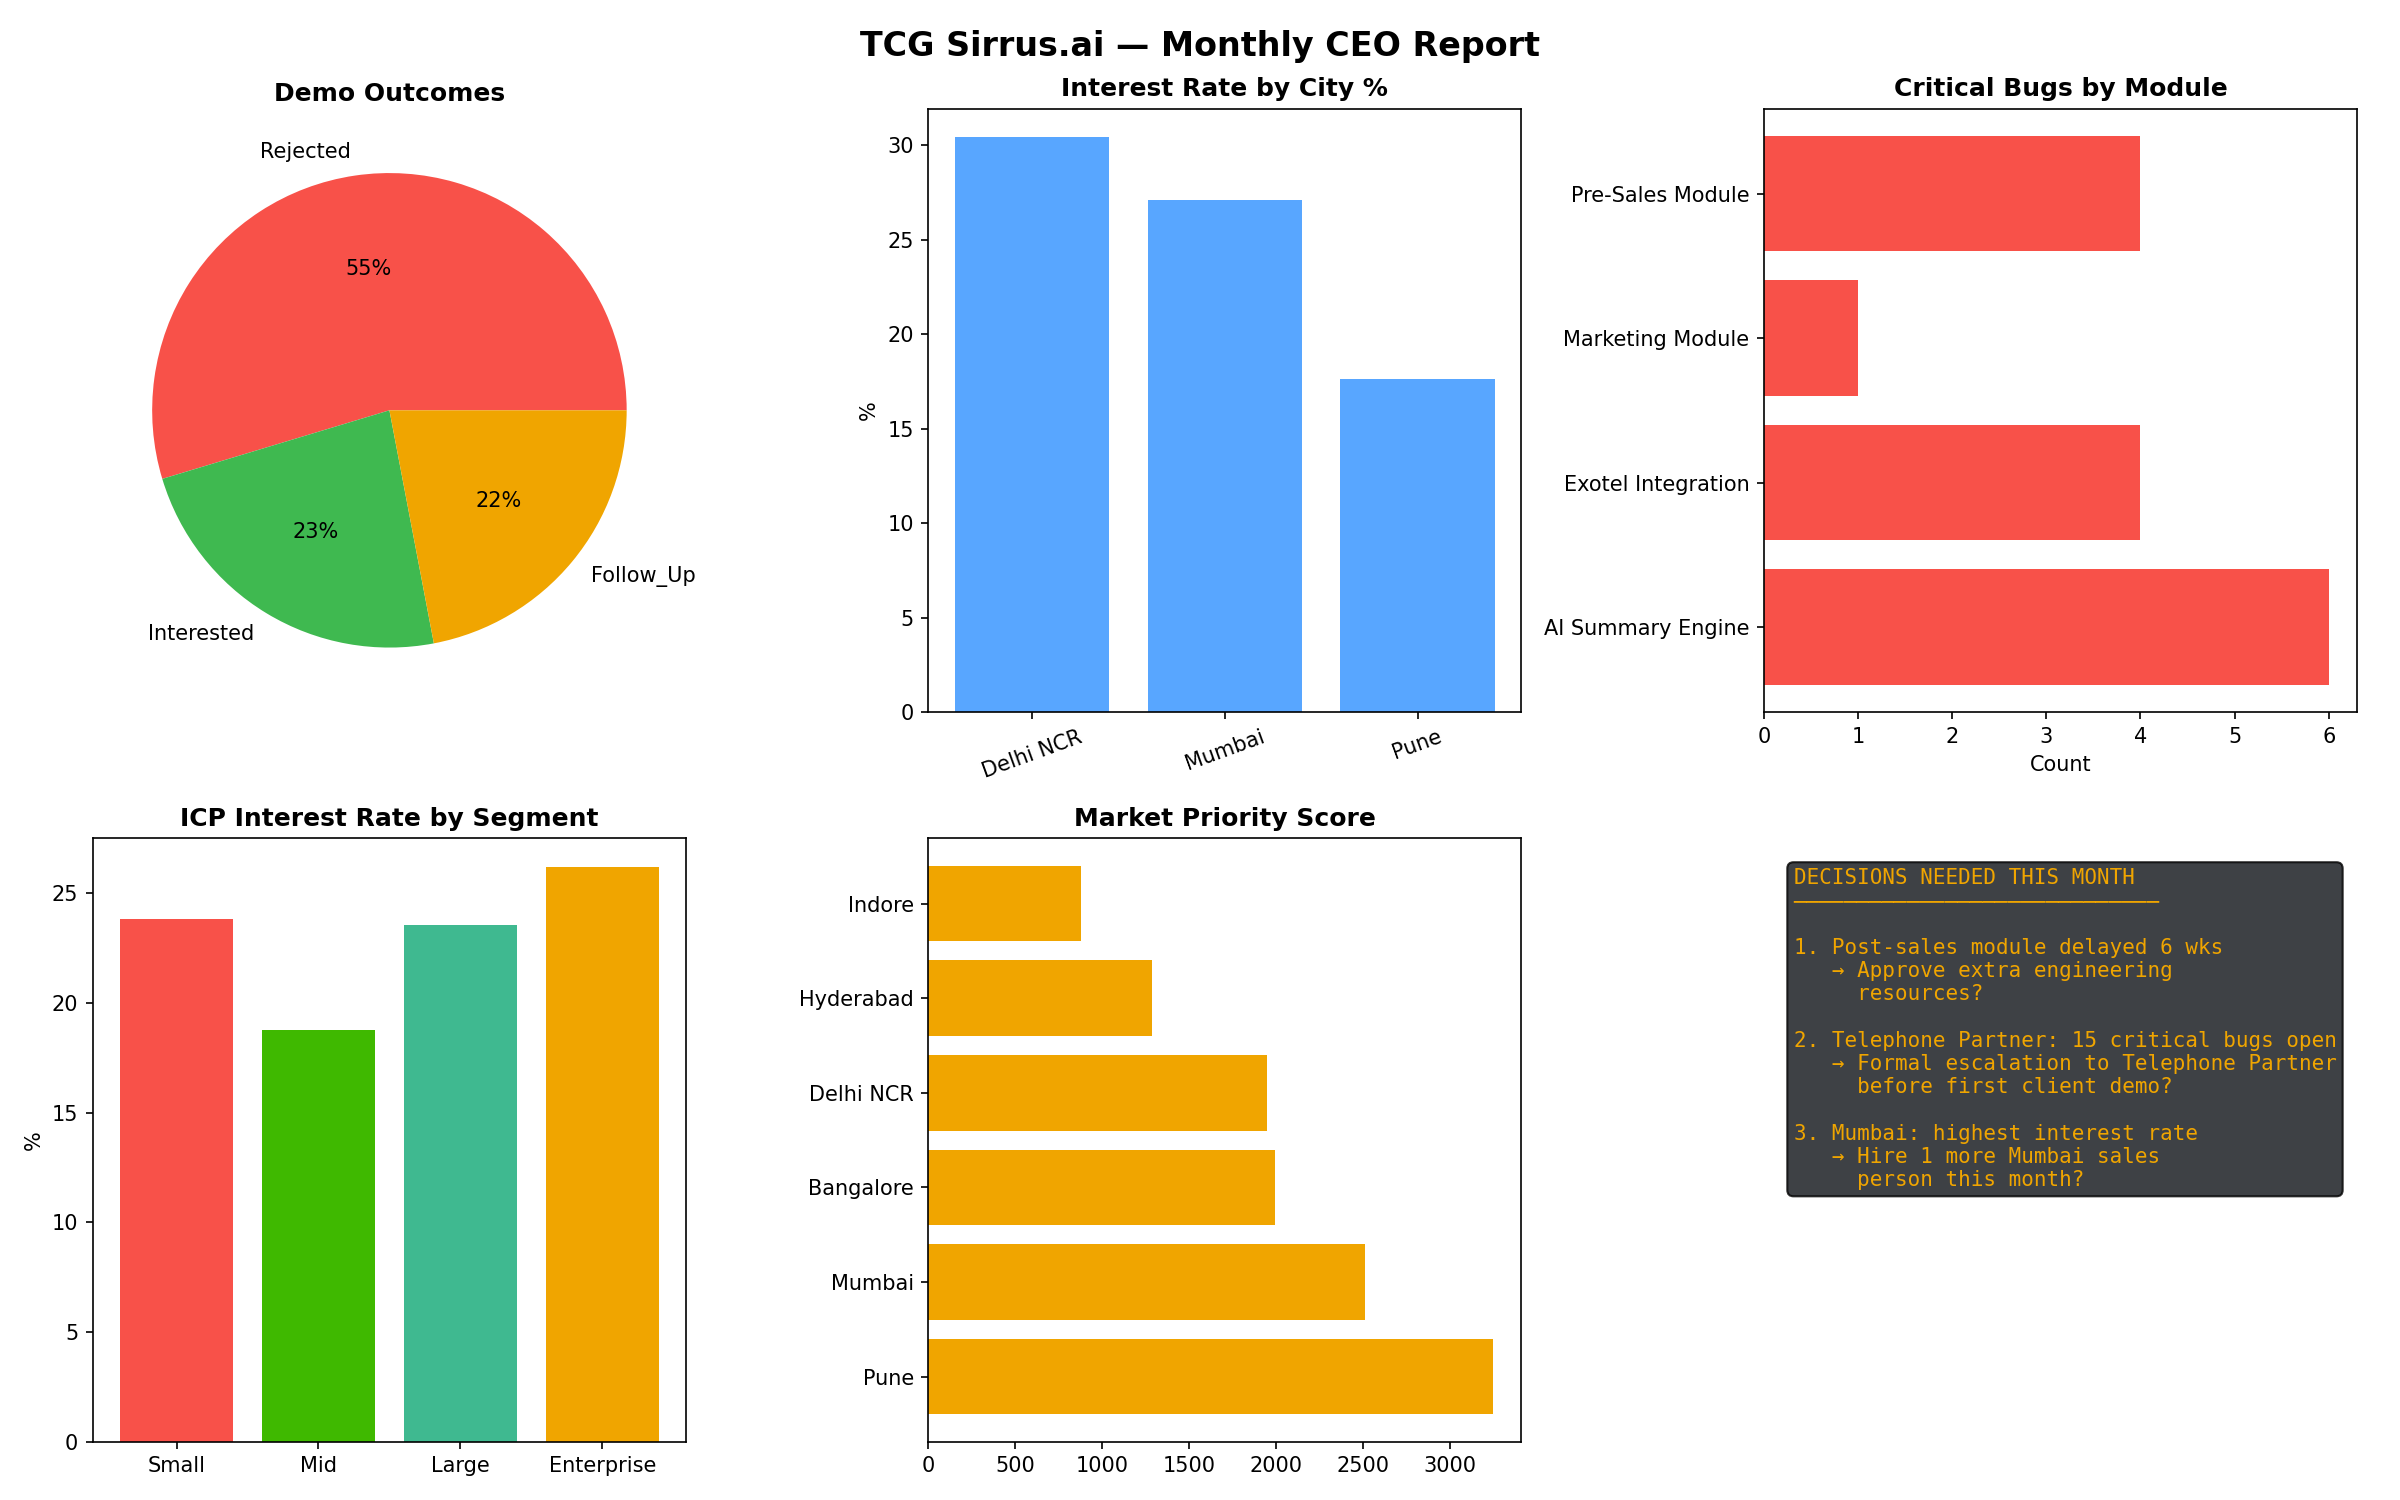

The dashboard page shown, as its layout file describes it:
{"tool":"powerbi","page":{"name":"Page 1","canvas":[1400,800],"ordinal":0},"visuals":[{"type":"donutChart","title":"Demo Outcomes","fields":{"Category":["demo_tracker.outcome"],"Y":["Sum(demo_tracker.demo_id)"]},"box":[0,146.3,446.2,278.9],"z":0},{"type":"clusteredColumnChart","title":"Software Adoption Citywise","fields":{"Category":["demo_tracker.city"],"Y":["demo_tracker.Interest Rate %"]},"box":[476.8,146.3,446.2,278.9],"z":1000},{"type":"clusteredBarChart","title":"Critical Bug by Module","fields":{"Category":["bug_tracker.module"],"Y":["CountNonNull(bug_tracker.bug_id)"]},"box":[938.5,145.5,447.1,279.2],"z":2000},{"type":"clusteredColumnChart","title":"ICP Interest rate by Segment","fields":{"Category":["demo_tracker.dev_segment"],"Y":["demo_tracker.Interest Rate %"]},"box":[0,435.4,445.4,318.1],"z":3000},{"type":"clusteredBarChart","title":"Market Priority Score","fields":{"Category":["market_data.city"],"Y":["demo_tracker.Priority Score"]},"box":[476.8,435.9,446.2,318.4],"z":4000},{"type":"textbox","box":[941,436.4,446,318],"z":5000},{"type":"shape","box":[17.7,90.7,1367.9,42.4],"z":6000},{"type":"shape","box":[17.7,49.5,15.9,15.9],"z":7000},{"type":"textbox","box":[49.5,26.5,500.2,63.6],"z":8000}]}

Visuals, with their boxes on the page's 1400x800 design canvas (x1, y1, x2, y2). These are canvas units, not pixel positions in the 2400x1500 screenshot, which may show the page scaled, cropped or inside an application window:
"Demo Outcomes" donutChart: bbox=(0, 146, 446, 425)
"Software Adoption Citywise" clusteredColumnChart: bbox=(477, 146, 923, 425)
"Critical Bug by Module" clusteredBarChart: bbox=(938, 146, 1386, 425)
"ICP Interest rate by Segment" clusteredColumnChart: bbox=(0, 435, 445, 754)
"Market Priority Score" clusteredBarChart: bbox=(477, 436, 923, 754)
textbox: bbox=(941, 436, 1387, 754)
shape: bbox=(18, 91, 1386, 133)
shape: bbox=(18, 50, 34, 65)
textbox: bbox=(50, 26, 550, 90)
